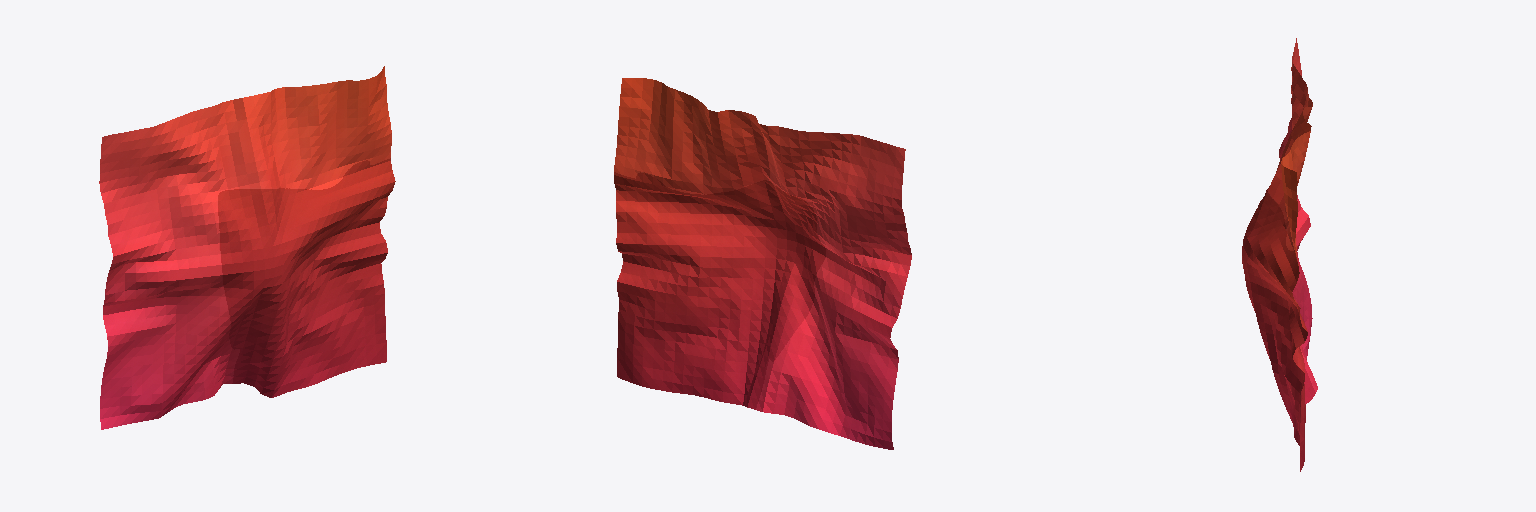
3 renders of one model, left to right at view 1: azimuth 30°, elevation 25°; view 2: azimuth 150°, elevation 25°; view 3: azimuth 270°, elevation 25°, orthographic.
Parts seen in each view (by area): view 1: Mesh; view 2: Mesh; view 3: Mesh.
Part boxes in pixels (x1,y1,x2,y2): Mesh: (99, 66, 395, 429); Mesh: (614, 78, 911, 449); Mesh: (1242, 38, 1317, 471).
Size of the model in its own units: 5.8 by 5.74 by 1.32.
Materials: 1 (1 with a texture image).